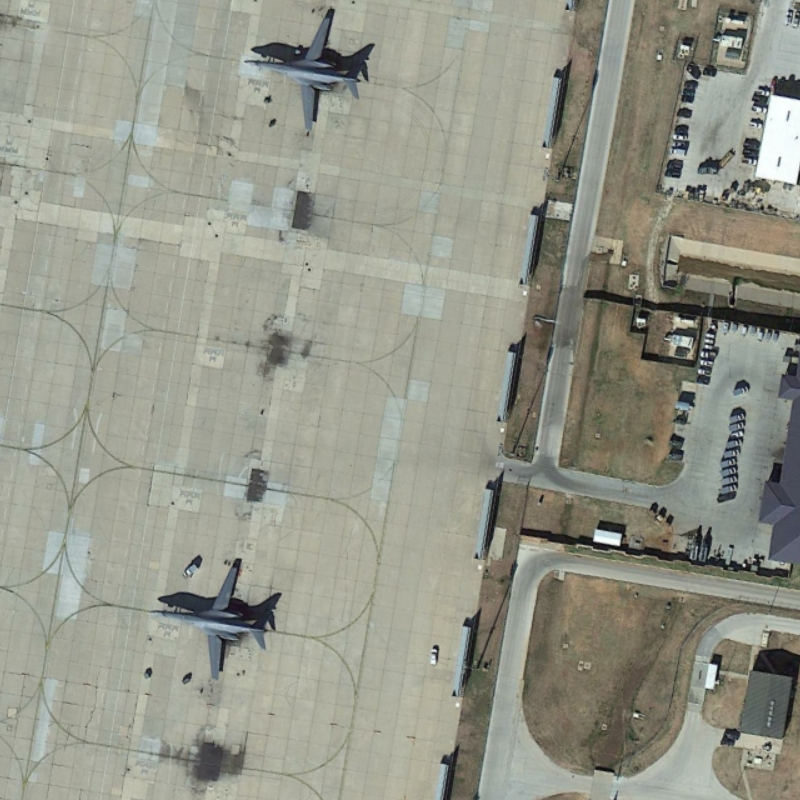A10: (241, 6, 384, 138), (152, 559, 282, 684)
